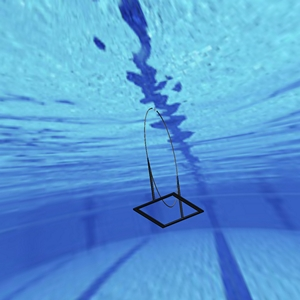circle: (131, 105, 204, 228)
